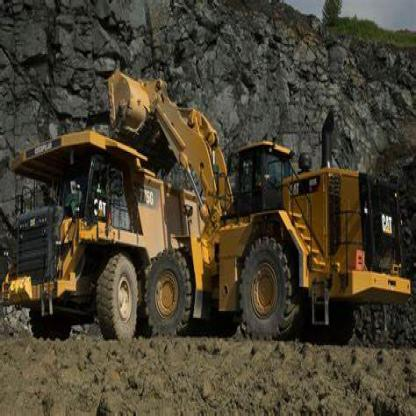bull_dozer/loader/grader: (107, 66, 415, 346)
dump_truck: (2, 125, 157, 351)
